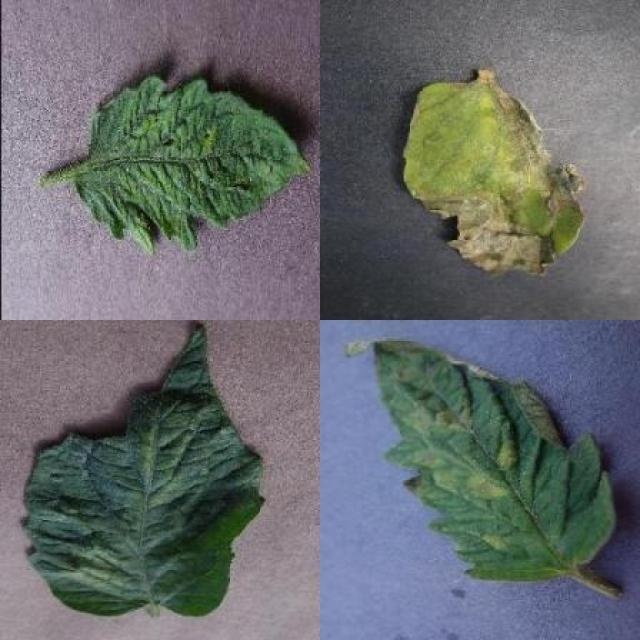Late Blight: (402, 72, 588, 278)
Leaf Mold: (374, 337, 620, 583)
Mosaic Virus: (75, 75, 312, 255)
Spider Mites: (22, 319, 267, 616)
